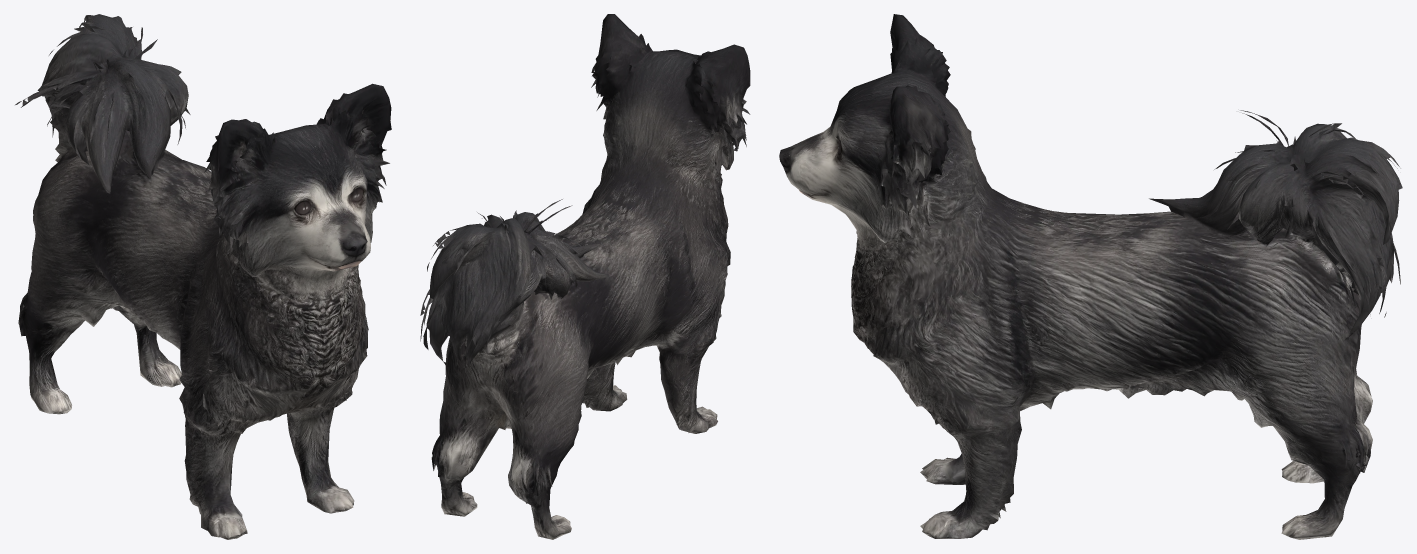
Rendered from nyxy.glb.
The picture shows the model from 3 angles, left to right: view 1: azimuth 30°, elevation 25°; view 2: azimuth 150°, elevation 25°; view 3: azimuth 270°, elevation 25°; orthographic projection. The views are drawn at different scales.
Parts seen in each view (by area): view 1: Mesh_Default; view 2: Mesh_Default; view 3: Mesh_Default.
Part boxes in pixels (x1,y1,x2,y2): Mesh_Default: [15, 14, 391, 539]; Mesh_Default: [420, 14, 750, 539]; Mesh_Default: [779, 14, 1402, 539].
Bounding box in the file's own units: 0.6287 × 1.5 × 1.86.
1 material, 1 textured.
